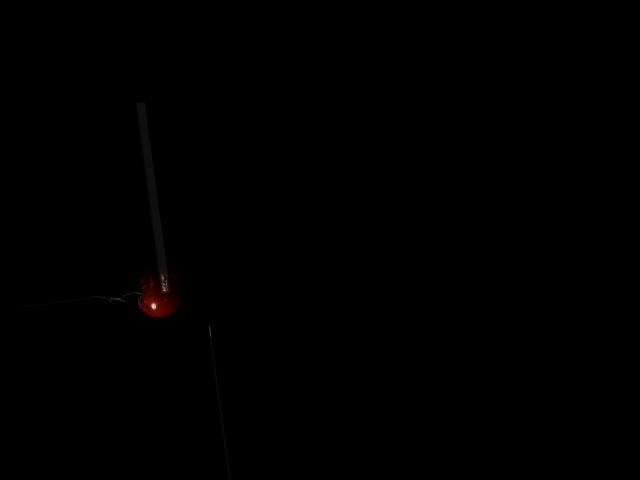tomato: (135, 264, 184, 319)
